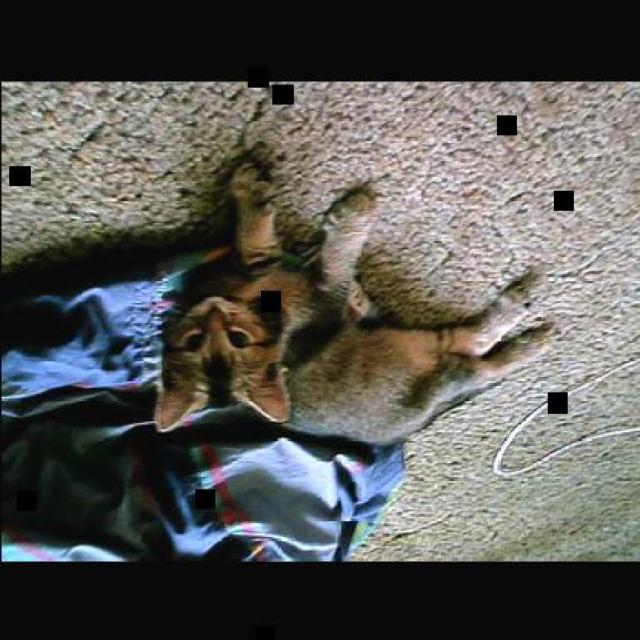unauthorized: (151, 140, 555, 448)
